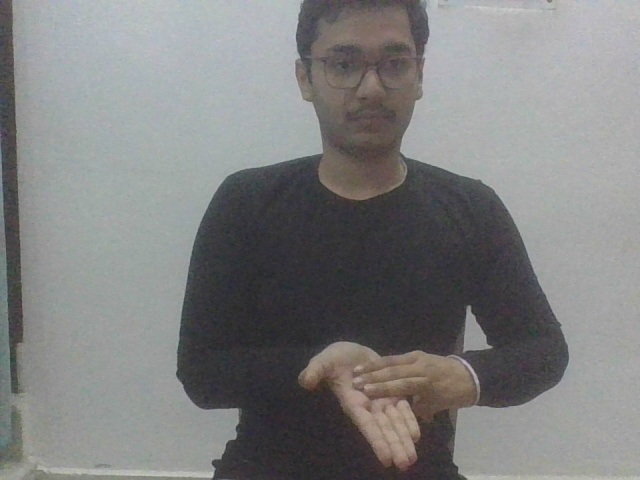M: (294, 338, 483, 473)
